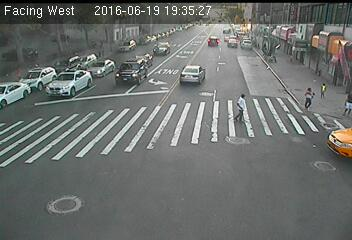neg: (123, 67, 148, 100), (281, 48, 300, 72), (46, 76, 64, 100), (300, 47, 316, 68), (66, 49, 78, 66)
pos: (230, 92, 256, 126), (299, 83, 319, 110), (337, 87, 351, 119), (318, 80, 334, 101)
